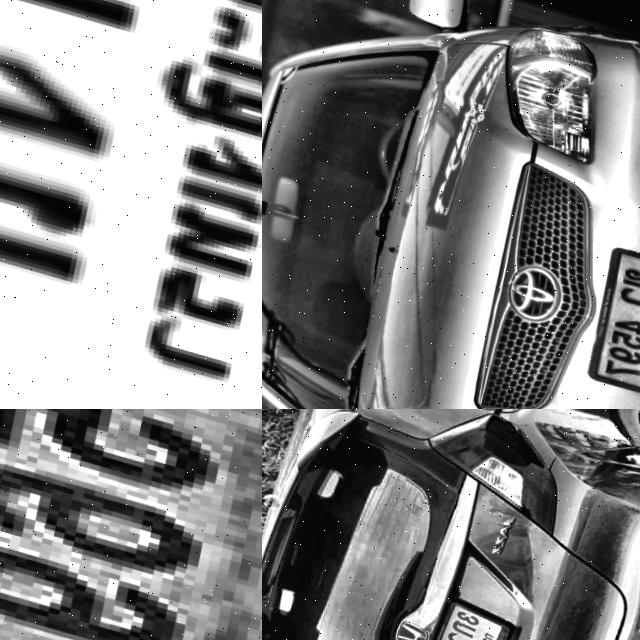license-plate: (0, 0, 262, 409), (0, 409, 262, 640), (572, 231, 640, 403), (414, 586, 518, 640)
